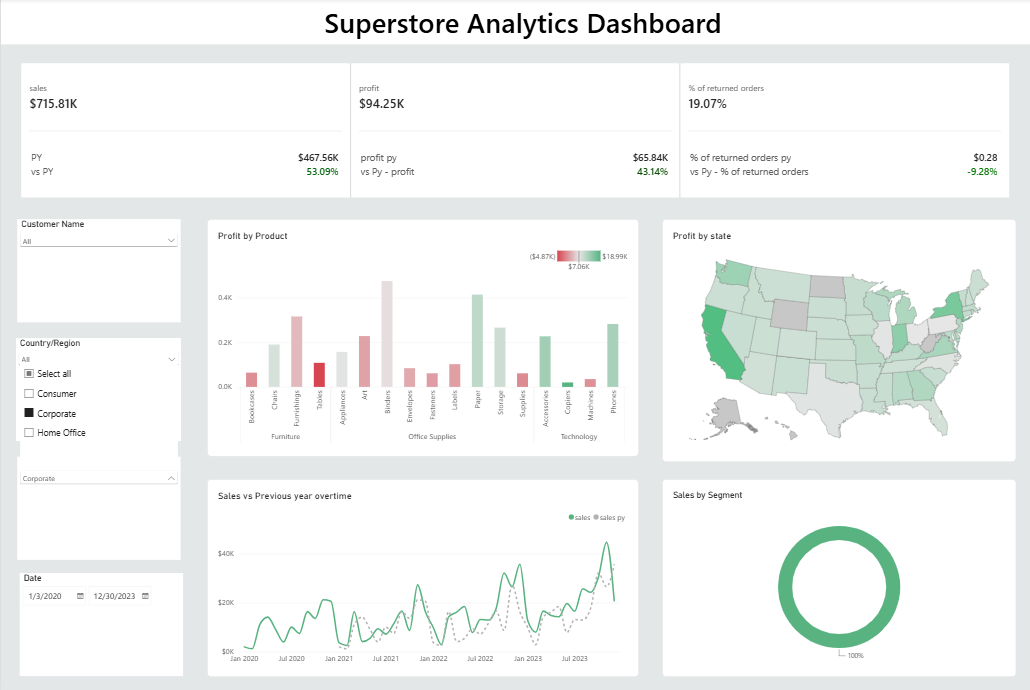

The page's visual inventory and layout, read from the dashboard file:
{"tool":"powerbi","page":{"name":"Page 1","canvas":[2000,1350],"ordinal":0},"visuals":[{"type":"cardVisual","fields":{"Data":["key measures.sales","key measures.profit","key measures.% of returned orders"]},"box":[20,120,1956.7,280],"z":0},{"type":"shape","box":[0,0,2000,90],"z":1000},{"type":"lineChart","title":"Sales vs Previous year overtime ","fields":{"Category":["Date table.start of month"],"Y":["key measures.sales","key measures.sales py"]},"box":[400,933.3,836.7,383.3],"z":2000,"group":"g1"},{"type":"columnChart","title":"Profit by Product","fields":{"Category":["Orders.Category","Orders.Sub-Category"],"Y":["CountNonNull(Orders.Profit)"]},"box":[400,430,836.7,460],"z":3000,"group":"g1"},{"type":"shapeMap","title":"Profit by state","fields":{"Category":["Orders.State/Province"],"Value":["key measures.profit"]},"box":[1283.3,430,686.7,470],"z":4000,"group":"g1"},{"type":"donutChart","title":"Sales by Segment","fields":{"Category":["Orders.Segment"],"Y":["key measures.sales"]},"box":[1283.3,933.3,686.7,383.3],"z":5000,"group":"g1"},{"type":"slicer","fields":{"Values":["Orders.Customer Name"]},"box":[33.3,430,316.7,200],"z":5500,"group":"g1"},{"type":"slicer","fields":{"Values":["Orders.Segment"]},"box":[33.3,890,316.7,200],"z":6000,"group":"g1"},{"type":"slicer","fields":{"Values":["Date table.Date"]},"box":[36.7,1116.7,316.7,200],"z":6500,"group":"g1"},{"type":"slicer","fields":{"Values":["Orders.Country/Region"]},"box":[30,660,320,200],"z":7000,"group":"g1"},{"type":"group","id":"g1","title":"Group 1","box":[30,430,1940,886.7],"z":7001}]}

Visuals, with their boxes in screenshot pixels (x1, y1, x2, y2), scaled from the page's 2000x1350 canvas onto the 1030x690 screenshot:
cardVisual - key measures.sales x key measures.profit: l=10, t=61, r=1018, b=204
shape: l=0, t=0, r=1029, b=46
"Sales vs Previous year overtime " lineChart: l=206, t=477, r=637, b=673
"Profit by Product" columnChart: l=206, t=220, r=637, b=455
"Profit by state" shapeMap: l=661, t=220, r=1015, b=460
"Sales by Segment" donutChart: l=661, t=477, r=1015, b=673
slicer - Orders.Customer Name: l=17, t=220, r=180, b=322
slicer - Orders.Segment: l=17, t=455, r=180, b=557
slicer - Date table.Date: l=19, t=571, r=182, b=673
slicer - Orders.Country/Region: l=15, t=337, r=180, b=440
"Group 1" group: l=15, t=220, r=1015, b=673
